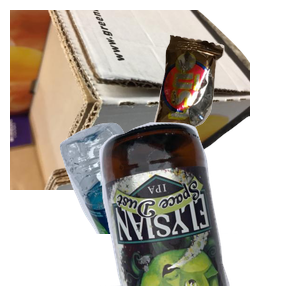cardboard: (10, 10, 250, 190)
glass: (97, 120, 300, 300)
plastic: (57, 120, 284, 300)
trash: (150, 32, 300, 172)
